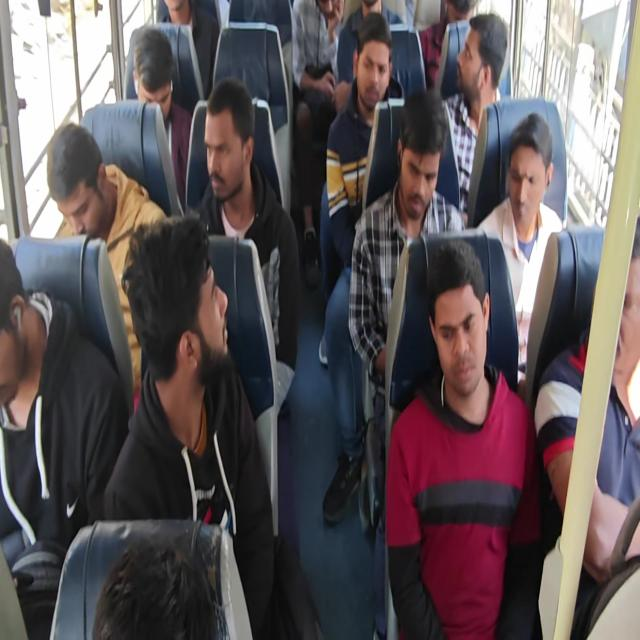person: (1, 1, 638, 638), (102, 212, 276, 638), (348, 88, 467, 638), (385, 238, 542, 638), (0, 237, 130, 638), (534, 213, 639, 638), (319, 12, 404, 524), (193, 77, 300, 416), (46, 122, 168, 412), (476, 111, 563, 390), (325, 13, 402, 275), (291, 0, 345, 285), (438, 12, 509, 220), (91, 538, 219, 639), (131, 27, 193, 212), (157, 0, 219, 100), (336, 0, 404, 85), (418, 0, 476, 90)
